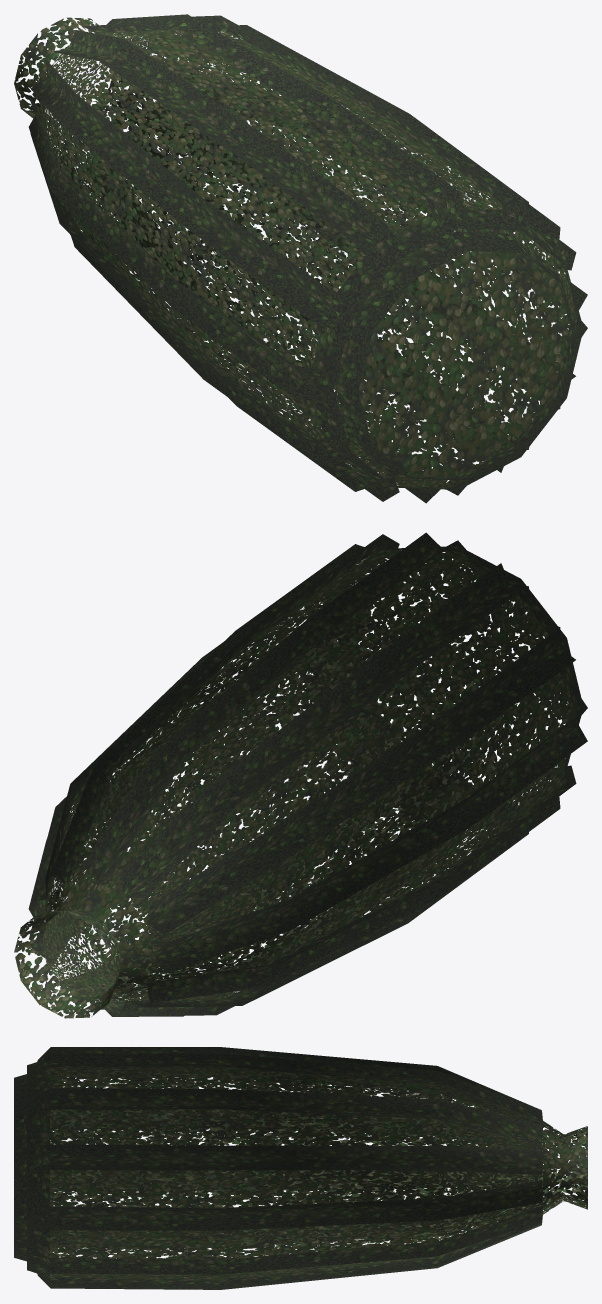
Rendered from nt_2020_foliage_hedge_rounded01_LOD1.obj.
3 views of the same model, one above another, from view 1: azimuth 30°, elevation 25°; view 2: azimuth 150°, elevation 25°; view 3: azimuth 270°, elevation 25° (orthographic). The views are drawn at different scales.
Parts seen in each view (by area): view 1: mtl_p6_foliage_hedge2, mtl_p6_foliage_hedge_edge; view 2: mtl_p6_foliage_hedge_edge, mtl_p6_foliage_hedge2; view 3: mtl_p6_foliage_hedge_edge, mtl_p6_foliage_hedge2.
Boxes of the visible parts, bbox=[...] form: mtl_p6_foliage_hedge2: bbox=[14, 17, 576, 487]; mtl_p6_foliage_hedge_edge: bbox=[28, 14, 587, 503]; mtl_p6_foliage_hedge_edge: bbox=[28, 532, 587, 1016]; mtl_p6_foliage_hedge2: bbox=[14, 550, 575, 1018]; mtl_p6_foliage_hedge_edge: bbox=[14, 1047, 542, 1289]; mtl_p6_foliage_hedge2: bbox=[50, 1067, 587, 1279].
Bounding box in the file's own units: 120 × 120 × 286.
